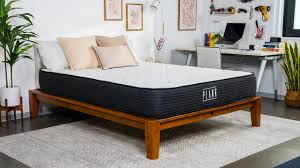bed-matress: (38, 60, 259, 120)
